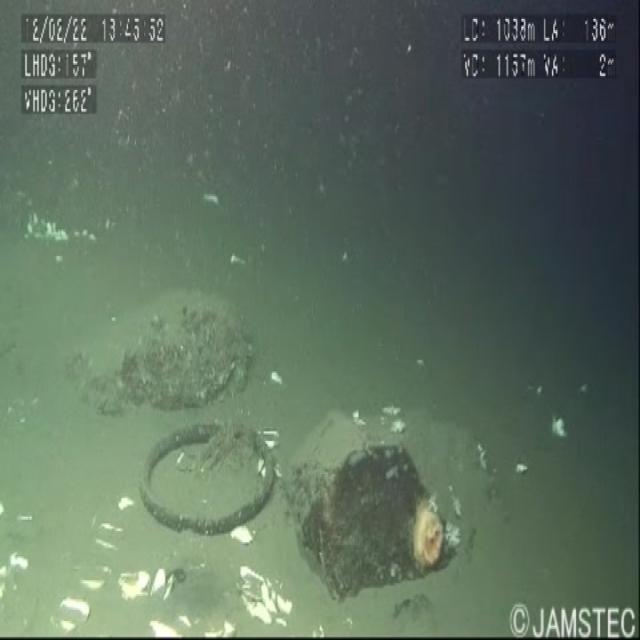Rubber: (138, 404, 284, 539)
